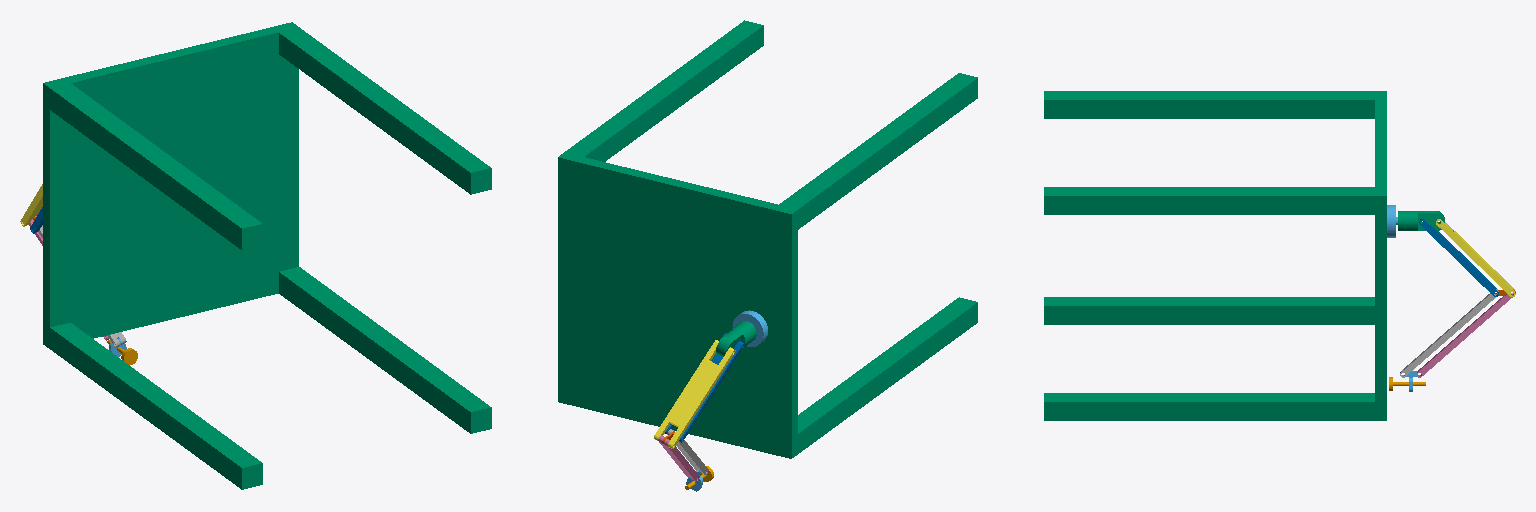
URDF robot description (stamp_arm_fixed):
<?xml version="1.0"?>
<robot name="stamp_arm_fixed">
  <link name="world"/>
  <link name="stamp_arm___base_1">
    <visual>
      <origin xyz="0.0 0.0 0.0" rpy="0.0 0.0 0.0"/>
      <geometry><mesh filename="meshes/stamp_arm___base_1.stl" scale="0.001 0.001 0.001"/></geometry>
    </visual>
    <collision>
      <origin xyz="0.0 0.0 0.0" rpy="0.0 0.0 0.0"/>
      <geometry><mesh filename="meshes/stamp_arm___base_1.stl" scale="0.001 0.001 0.001"/></geometry>
    </collision>
  </link>
  <link name="stamp_arm___link1_column_1">
    <visual>
      <origin xyz="0.0 0.0 0.0" rpy="0.0 0.0 0.0"/>
      <geometry><mesh filename="meshes/stamp_arm___link1_column_1.stl" scale="0.001 0.001 0.001"/></geometry>
    </visual>
    <collision>
      <origin xyz="0.0 0.0 0.0" rpy="0.0 0.0 0.0"/>
      <geometry><mesh filename="meshes/stamp_arm___link1_column_1.stl" scale="0.001 0.001 0.001"/></geometry>
    </collision>
  </link>
  <link name="stamp_arm___link2_upper_arm_2">
    <visual>
      <origin xyz="0.0 0.0 0.0" rpy="0.0 0.0 0.0"/>
      <geometry><mesh filename="meshes/stamp_arm___link2_upper_arm_2.stl" scale="0.001 0.001 0.001"/></geometry>
    </visual>
    <collision>
      <origin xyz="0.0 0.0 0.0" rpy="0.0 0.0 0.0"/>
      <geometry><mesh filename="meshes/stamp_arm___link2_upper_arm_2.stl" scale="0.001 0.001 0.001"/></geometry>
    </collision>
  </link>
  <link name="stamp_arm___link2_upper_arm_3">
    <visual>
      <origin xyz="0.0 0.0 0.0" rpy="0.0 0.0 0.0"/>
      <geometry><mesh filename="meshes/stamp_arm___link2_upper_arm_3.stl" scale="0.001 0.001 0.001"/></geometry>
    </visual>
    <collision>
      <origin xyz="0.0 0.0 0.0" rpy="0.0 0.0 0.0"/>
      <geometry><mesh filename="meshes/stamp_arm___link2_upper_arm_3.stl" scale="0.001 0.001 0.001"/></geometry>
    </collision>
  </link>
  <link name="stamp_arm___link3_1">
    <visual>
      <origin xyz="0.0 0.0 0.0" rpy="0.0 0.0 0.0"/>
      <geometry><mesh filename="meshes/stamp_arm___link3_1.stl" scale="0.001 0.001 0.001"/></geometry>
    </visual>
    <collision>
      <origin xyz="0.0 0.0 0.0" rpy="0.0 0.0 0.0"/>
      <geometry><mesh filename="meshes/stamp_arm___link3_1.stl" scale="0.001 0.001 0.001"/></geometry>
    </collision>
  </link>
  <link name="stamp_arm___link3_forearm_2">
    <visual>
      <origin xyz="0.0 0.0 0.0" rpy="0.0 0.0 0.0"/>
      <geometry><mesh filename="meshes/stamp_arm___link3_forearm_2.stl" scale="0.001 0.001 0.001"/></geometry>
    </visual>
    <collision>
      <origin xyz="0.0 0.0 0.0" rpy="0.0 0.0 0.0"/>
      <geometry><mesh filename="meshes/stamp_arm___link3_forearm_2.stl" scale="0.001 0.001 0.001"/></geometry>
    </collision>
  </link>
  <link name="stamp_arm___link3_forearm_3">
    <visual>
      <origin xyz="0.0 0.0 0.0" rpy="0.0 0.0 0.0"/>
      <geometry><mesh filename="meshes/stamp_arm___link3_forearm_3.stl" scale="0.001 0.001 0.001"/></geometry>
    </visual>
    <collision>
      <origin xyz="0.0 0.0 0.0" rpy="0.0 0.0 0.0"/>
      <geometry><mesh filename="meshes/stamp_arm___link3_forearm_3.stl" scale="0.001 0.001 0.001"/></geometry>
    </collision>
  </link>
  <link name="stamp_arm___stamp_head_1">
    <visual>
      <origin xyz="0.0 0.0 0.0" rpy="0.0 0.0 0.0"/>
      <geometry><mesh filename="meshes/stamp_arm___stamp_head_1.stl" scale="0.001 0.001 0.001"/></geometry>
    </visual>
    <collision>
      <origin xyz="0.0 0.0 0.0" rpy="0.0 0.0 0.0"/>
      <geometry><mesh filename="meshes/stamp_arm___stamp_head_1.stl" scale="0.001 0.001 0.001"/></geometry>
    </collision>
  </link>
  <link name="stamp_arm___stamp_slider_1">
    <visual>
      <origin xyz="0.0 0.0 0.0" rpy="0.0 0.0 0.0"/>
      <geometry><mesh filename="meshes/stamp_arm___stamp_slider_1.stl" scale="0.001 0.001 0.001"/></geometry>
    </visual>
    <collision>
      <origin xyz="0.0 0.0 0.0" rpy="0.0 0.0 0.0"/>
      <geometry><mesh filename="meshes/stamp_arm___stamp_slider_1.stl" scale="0.001 0.001 0.001"/></geometry>
    </collision>
  </link>
  <link name="stamp_arm___table_1">
    <visual>
      <origin xyz="0.0 0.0 0.0" rpy="0.0 0.0 0.0"/>
      <geometry><mesh filename="meshes/stamp_arm___table_1.stl" scale="0.001 0.001 0.001"/></geometry>
    </visual>
    <collision>
      <origin xyz="0.0 0.0 0.0" rpy="0.0 0.0 0.0"/>
      <geometry><mesh filename="meshes/stamp_arm___table_1.stl" scale="0.001 0.001 0.001"/></geometry>
    </collision>
  </link>
  <joint name="world_to_stamp_arm___base_1" type="fixed">
    <parent link="world"/>
    <child link="stamp_arm___base_1"/>
  </joint>
  <joint name="world_to_stamp_arm___link1_column_1" type="fixed">
    <parent link="world"/>
    <child link="stamp_arm___link1_column_1"/>
  </joint>
  <joint name="world_to_stamp_arm___link2_upper_arm_2" type="fixed">
    <parent link="world"/>
    <child link="stamp_arm___link2_upper_arm_2"/>
  </joint>
  <joint name="world_to_stamp_arm___link2_upper_arm_3" type="fixed">
    <parent link="world"/>
    <child link="stamp_arm___link2_upper_arm_3"/>
  </joint>
  <joint name="world_to_stamp_arm___link3_1" type="fixed">
    <parent link="world"/>
    <child link="stamp_arm___link3_1"/>
  </joint>
  <joint name="world_to_stamp_arm___link3_forearm_2" type="fixed">
    <parent link="world"/>
    <child link="stamp_arm___link3_forearm_2"/>
  </joint>
  <joint name="world_to_stamp_arm___link3_forearm_3" type="fixed">
    <parent link="world"/>
    <child link="stamp_arm___link3_forearm_3"/>
  </joint>
  <joint name="world_to_stamp_arm___stamp_head_1" type="fixed">
    <parent link="world"/>
    <child link="stamp_arm___stamp_head_1"/>
  </joint>
  <joint name="world_to_stamp_arm___stamp_slider_1" type="fixed">
    <parent link="world"/>
    <child link="stamp_arm___stamp_slider_1"/>
  </joint>
  <joint name="world_to_stamp_arm___table_1" type="fixed">
    <parent link="world"/>
    <child link="stamp_arm___table_1"/>
  </joint>
</robot>

--- Render facts (derived) ---
Views: 3 orthographic renders of the robot side by side, from view 1: azimuth 30°, elevation 25°; view 2: azimuth 150°, elevation 25°; view 3: azimuth 270°, elevation 25°.
Robot: stamp_arm_fixed — 11 links, 10 joints (10 fixed); root link world; default pose: all joints at 0.
Links seen in each view (by area): view 1: stamp_arm___table_1; view 2: stamp_arm___table_1, stamp_arm___link2_upper_arm_2, stamp_arm___link1_column_1, stamp_arm___link2_upper_arm_3, stamp_arm___base_1; view 3: stamp_arm___table_1, stamp_arm___link3_forearm_3, stamp_arm___link3_forearm_2, stamp_arm___link2_upper_arm_2, stamp_arm___link2_upper_arm_3, stamp_arm___link1_column_1.
Link boxes in pixels (x1,y1,x2,y2): stamp_arm___table_1: [43, 22, 491, 489]; stamp_arm___table_1: [558, 20, 977, 458]; stamp_arm___link2_upper_arm_2: [654, 340, 735, 448]; stamp_arm___link1_column_1: [716, 321, 756, 356]; stamp_arm___link2_upper_arm_3: [665, 333, 744, 442]; stamp_arm___base_1: [732, 310, 767, 346]; stamp_arm___table_1: [1044, 91, 1386, 420]; stamp_arm___link3_forearm_3: [1400, 289, 1498, 377]; stamp_arm___link3_forearm_2: [1417, 289, 1513, 377]; stamp_arm___link2_upper_arm_2: [1436, 219, 1515, 296]; stamp_arm___link2_upper_arm_3: [1419, 219, 1498, 296]; stamp_arm___link1_column_1: [1398, 211, 1444, 230].
Size in the robot's own frame: 0.6 by 1.14 by 0.7021 metres.
Meshes: 10 distinct files referenced, 10 mesh visuals loaded (10 binary STL).
